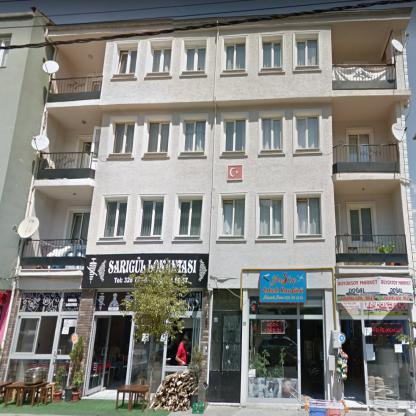door: (208, 310, 242, 402), (85, 316, 111, 396), (89, 126, 101, 169), (335, 204, 343, 254), (81, 144, 91, 168), (99, 78, 103, 91)
window: (246, 294, 322, 403), (362, 316, 416, 406), (5, 312, 60, 381), (51, 316, 78, 384), (346, 202, 378, 246), (296, 195, 322, 236), (258, 197, 283, 237), (102, 199, 127, 237), (177, 198, 202, 236), (138, 199, 164, 235), (346, 128, 374, 161), (220, 199, 244, 236), (182, 119, 206, 152), (296, 115, 319, 149), (260, 116, 282, 151), (223, 119, 246, 152), (69, 212, 90, 248), (110, 122, 134, 153), (146, 120, 169, 152), (296, 38, 318, 67), (149, 46, 172, 72), (224, 42, 245, 70), (262, 39, 282, 68), (115, 47, 137, 73), (184, 45, 206, 71), (213, 289, 240, 310), (91, 81, 99, 91)
